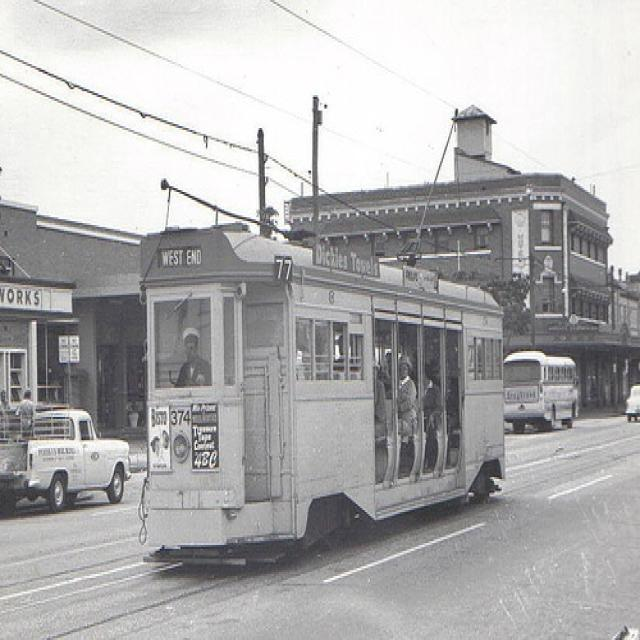bus: (504, 350, 582, 437)
car: (1, 399, 133, 523)
